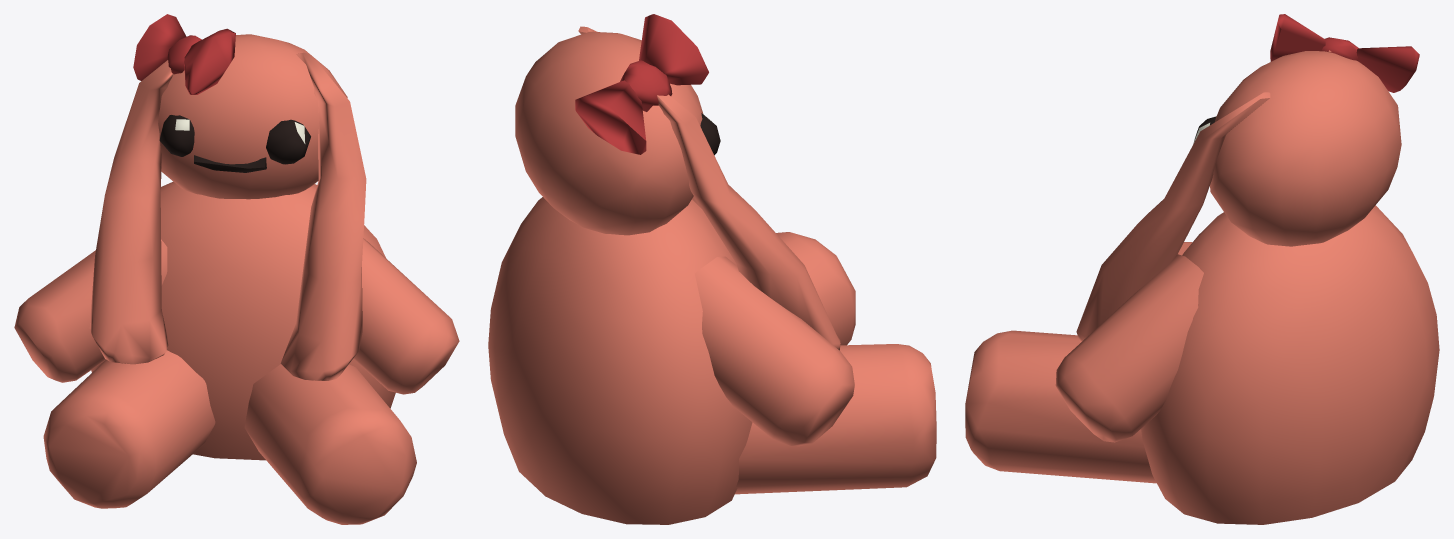
The model's file is buwawa.fbx.
The picture shows the model from 3 angles, left to right: view 1: azimuth 30°, elevation 25°; view 2: azimuth 150°, elevation 25°; view 3: azimuth 270°, elevation 25°; orthographic projection. The views are drawn at different scales.
Visible parts, largest first — view 1: polySurface41, polySurface40, polySurface42, polySurface44, polySurface46, polySurface45, polySurface43, polySurface39, polySurface49, polySurface51, polySurface48, polySurface47 (+2 smaller); view 2: polySurface41, polySurface44, polySurface42, polySurface39, polySurface45, polySurface40, polySurface51, polySurface49, polySurface50; view 3: polySurface41, polySurface44, polySurface40, polySurface43, polySurface46, polySurface51, polySurface49, polySurface50.
Boxes of the visible parts, box(x1,y1,x2,y2) form: polySurface41: box(91, 181, 395, 460); polySurface40: box(244, 364, 416, 524); polySurface42: box(43, 350, 215, 508); polySurface44: box(158, 34, 347, 199); polySurface46: box(280, 52, 366, 380); polySurface45: box(90, 60, 173, 364); polySurface43: box(353, 238, 459, 394); polySurface39: box(14, 239, 167, 382); polySurface49: box(184, 28, 235, 94); polySurface51: box(133, 14, 186, 80); polySurface48: box(266, 119, 310, 164); polySurface47: box(159, 115, 194, 156); polySurface41: box(488, 197, 752, 524); polySurface44: box(515, 31, 703, 235); polySurface42: box(735, 344, 936, 494); polySurface39: box(695, 256, 854, 446); polySurface45: box(657, 94, 840, 350); polySurface40: box(776, 232, 855, 345); polySurface51: box(575, 80, 646, 154); polySurface49: box(639, 14, 708, 85); polySurface50: box(620, 60, 672, 111); polySurface41: box(1141, 205, 1439, 524); polySurface44: box(1210, 51, 1401, 246); polySurface40: box(965, 330, 1156, 483); polySurface43: box(1055, 254, 1203, 442); polySurface46: box(1076, 92, 1270, 342); polySurface51: box(1356, 46, 1419, 92); polySurface49: box(1270, 14, 1325, 61); polySurface50: box(1322, 37, 1358, 60).
Size of the model in its own units: 266 by 285 by 276.
